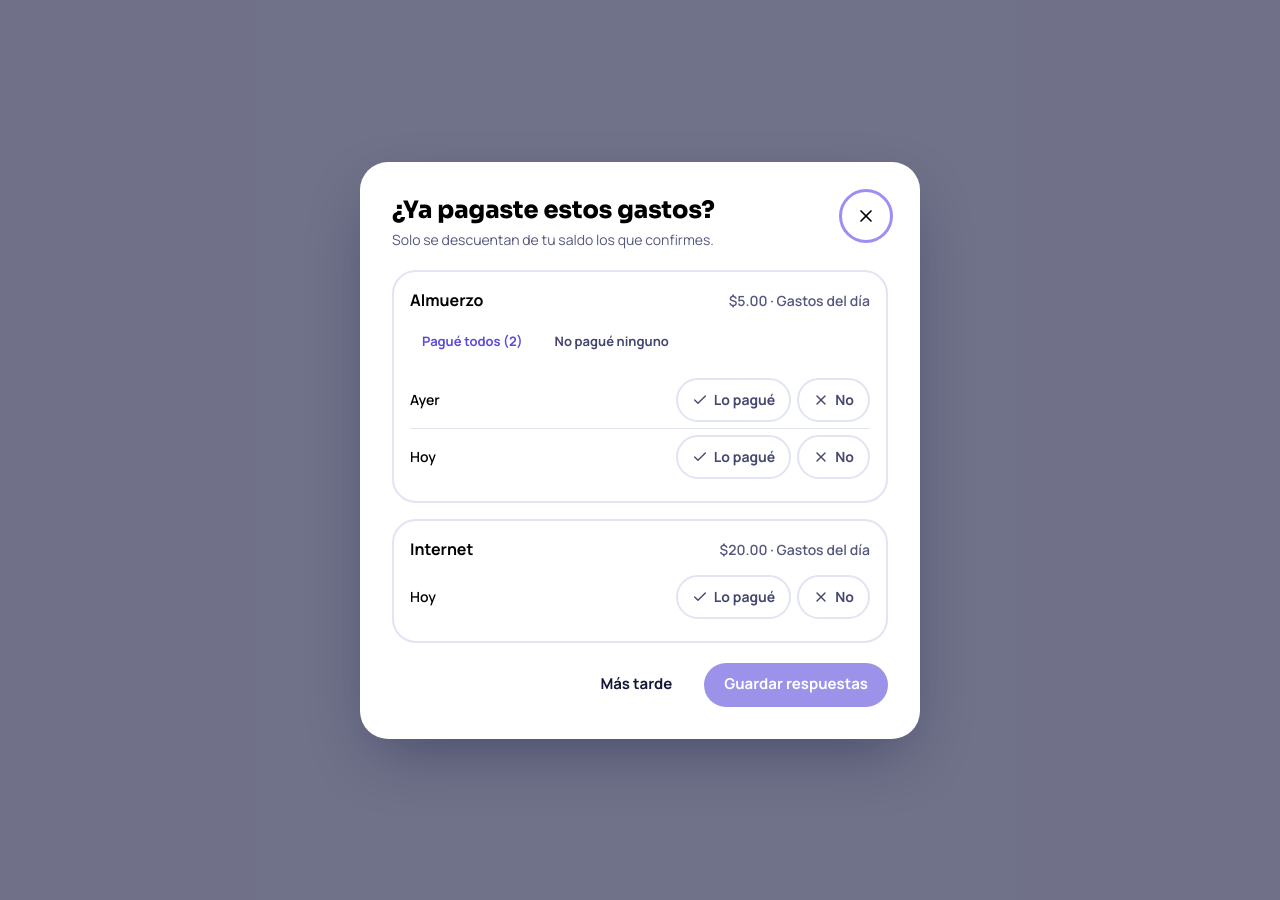
CheckInPrompt › shows the API's reason when saving fails
The width and height of the screenshot is (1280, 900).
Click the button "Lo pagué" below "Internet" at (734, 596), box 676,574 -> 791,618
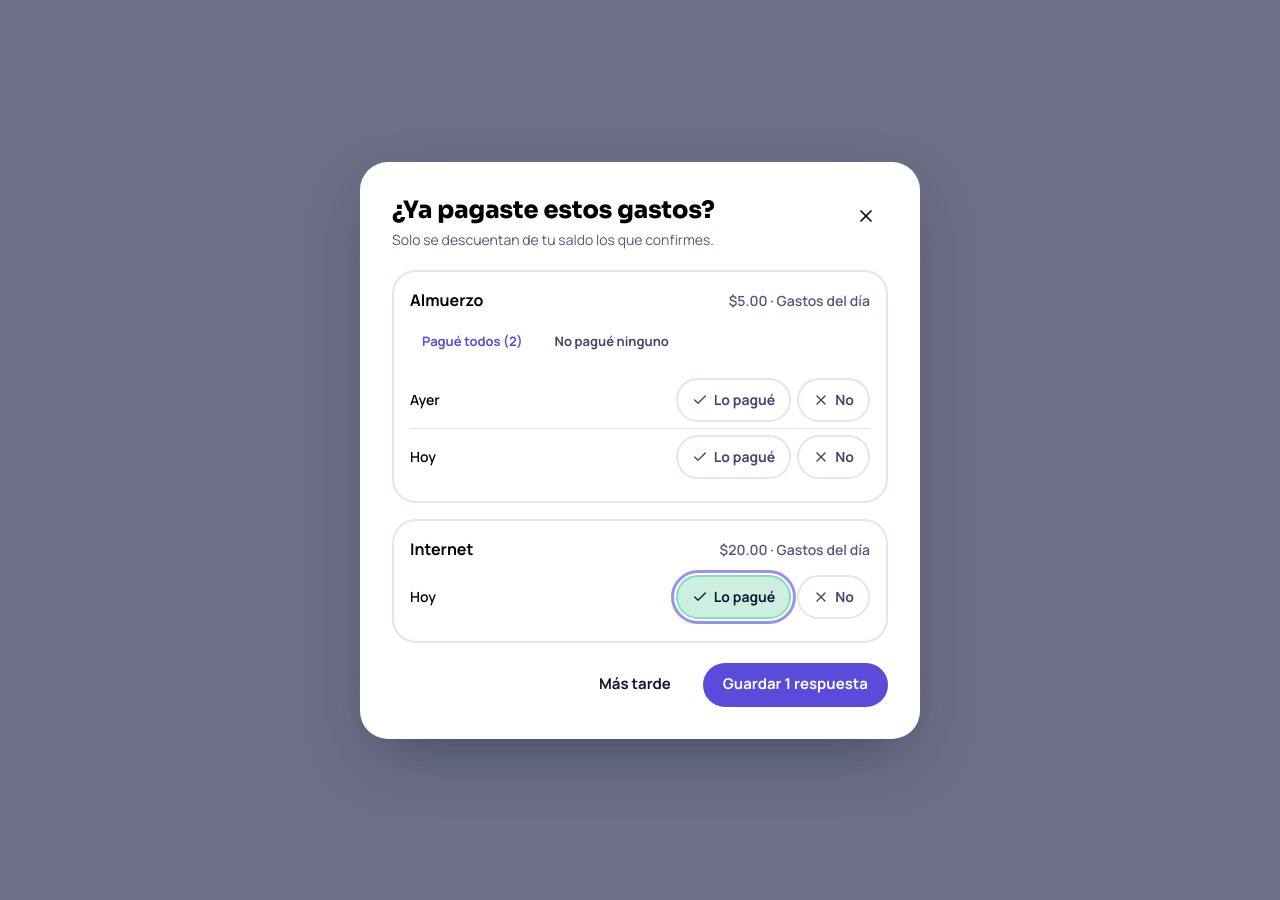
Click the button "Guardar 1 respuesta" at (795, 684), box 703,662 -> 888,706
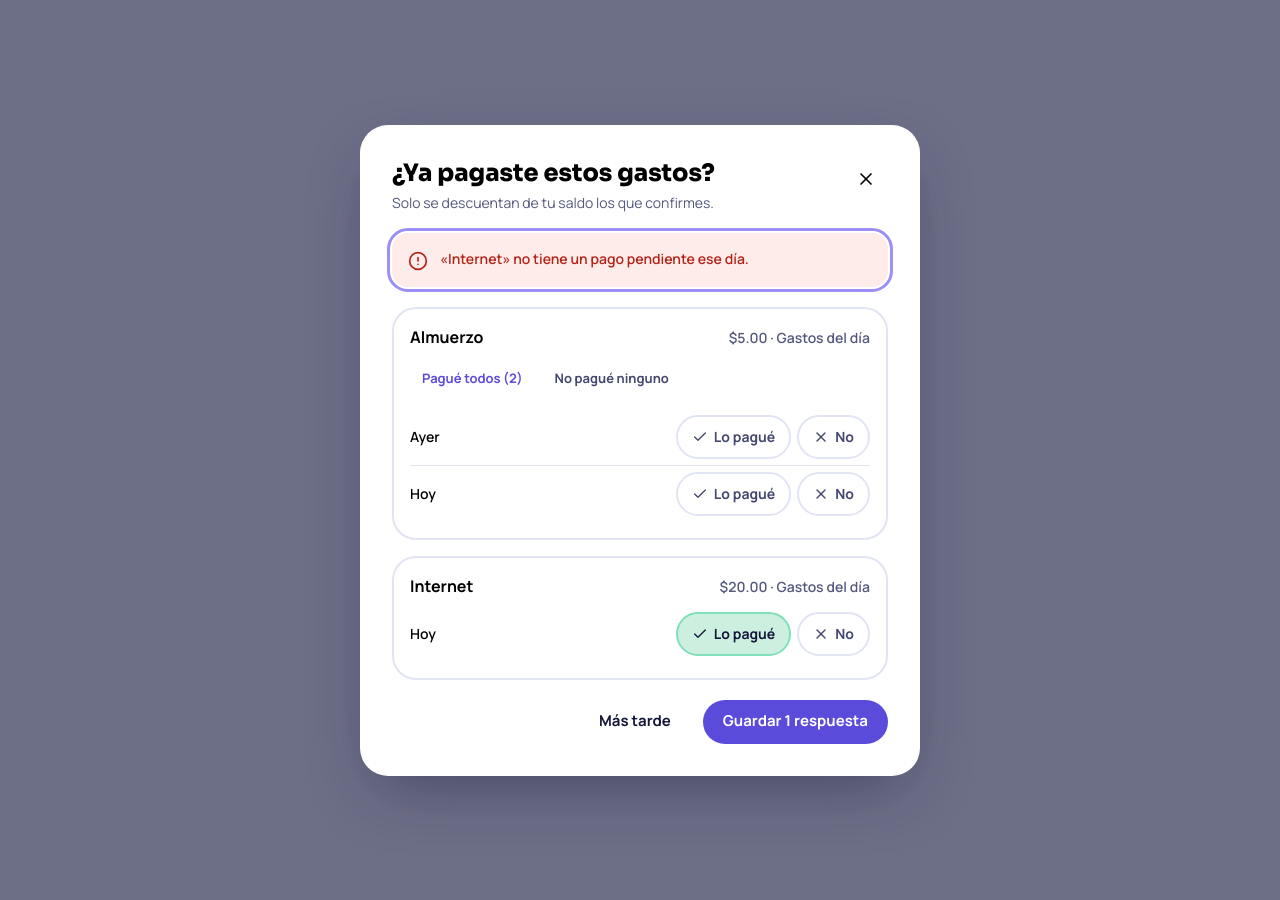
Expected: the message reads "«Internet» no tiene un pago pendiente ese día.", 440,248 -> 749,268
